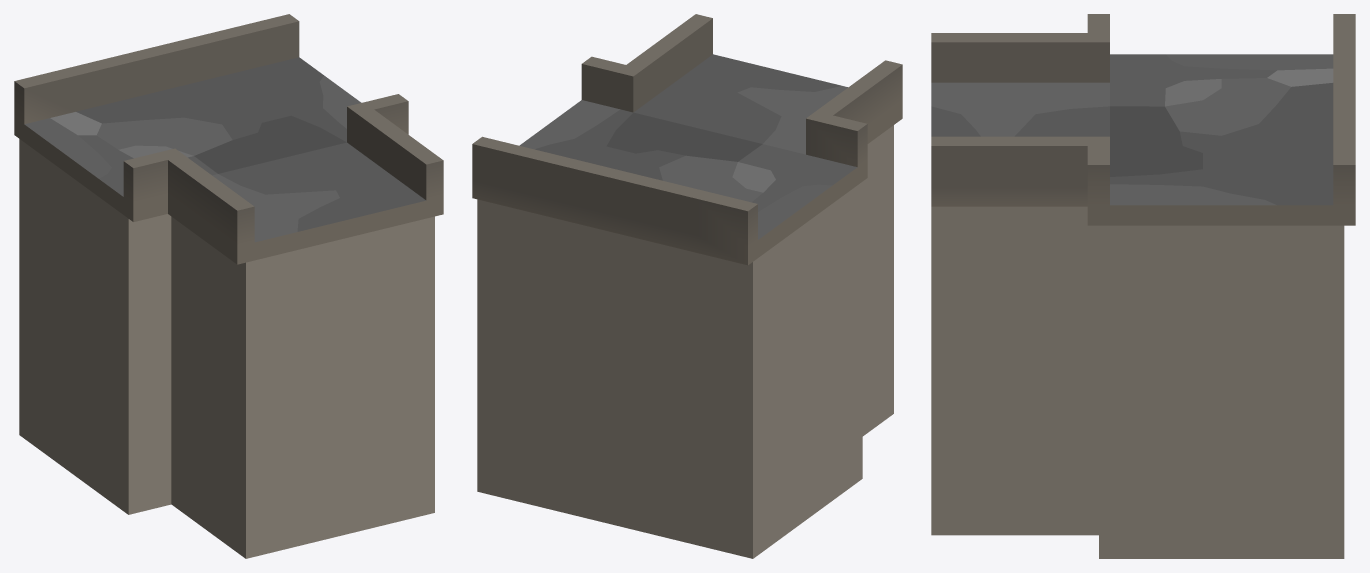
Rendered from Walkway-Bridge_D.fbx.
The picture shows the model from 3 angles, left to right: view 1: azimuth 30°, elevation 25°; view 2: azimuth 150°, elevation 25°; view 3: azimuth 270°, elevation 25°; orthographic projection. The views are drawn at different scales.
Parts seen in each view (by area): view 1: Walkway-Bridge_D; view 2: Walkway-Bridge_D; view 3: Walkway-Bridge_D.
Boxes of the visible parts, x1,y1,x2,y2 form: Walkway-Bridge_D: [14, 14, 443, 558]; Walkway-Bridge_D: [472, 14, 902, 558]; Walkway-Bridge_D: [931, 14, 1355, 558].
Bounding box in the file's own units: 800 × 974 × 950.
